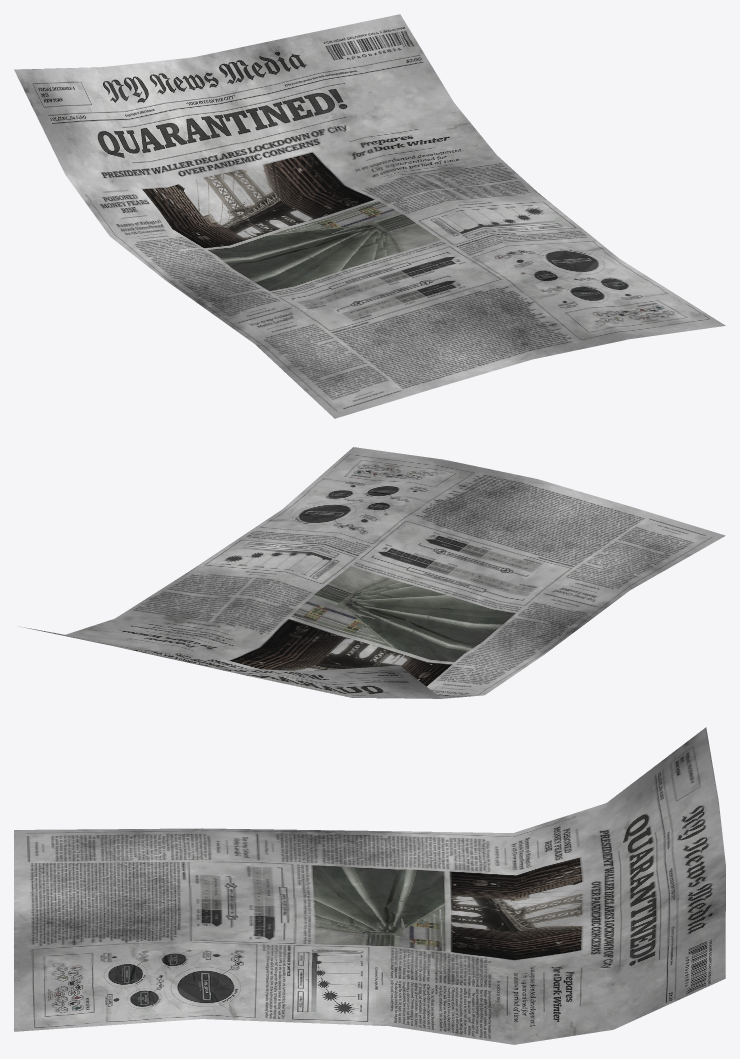
Rendered from SM_Newspaper02.glb.
3 renders of one model, top to bottom at view 1: azimuth 30°, elevation 25°; view 2: azimuth 150°, elevation 25°; view 3: azimuth 270°, elevation 25°, orthographic. The views are drawn at different scales.
Visible parts, largest first — view 1: SM_Newspaper02; view 2: SM_Newspaper02; view 3: SM_Newspaper02.
Part boxes in pixels (x1,y1,x2,y2): SM_Newspaper02: (14, 14, 725, 418); SM_Newspaper02: (18, 447, 725, 698); SM_Newspaper02: (14, 727, 725, 1044).
Size of the model in its own units: 0.4873 by 0.1302 by 0.7082.
Materials: 1 (1 with a texture image).
